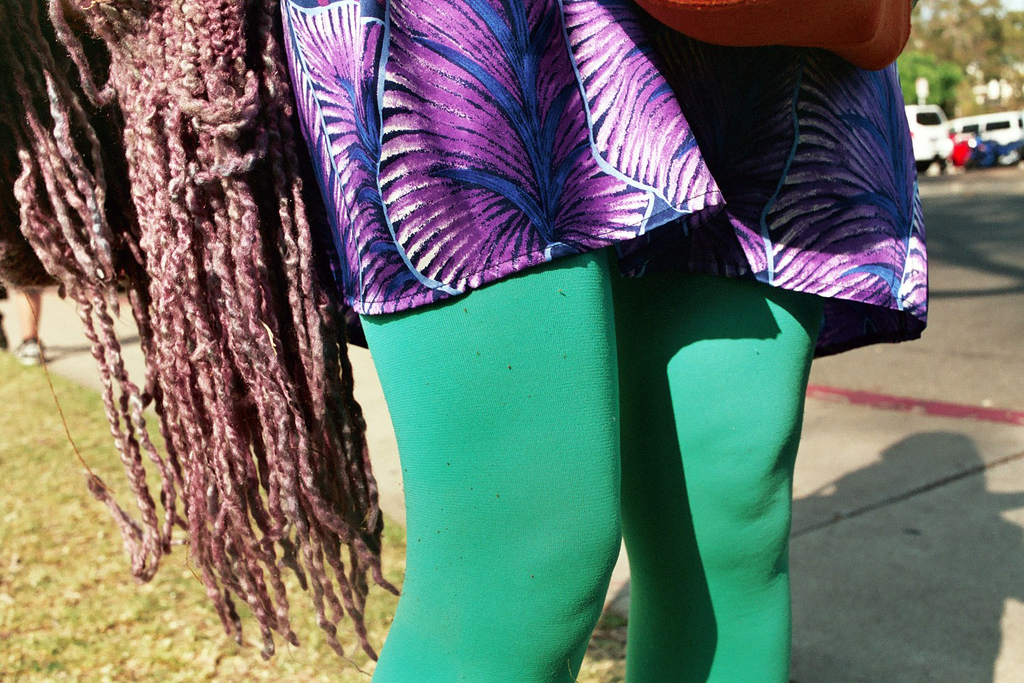Person: (280, 0, 929, 682)
